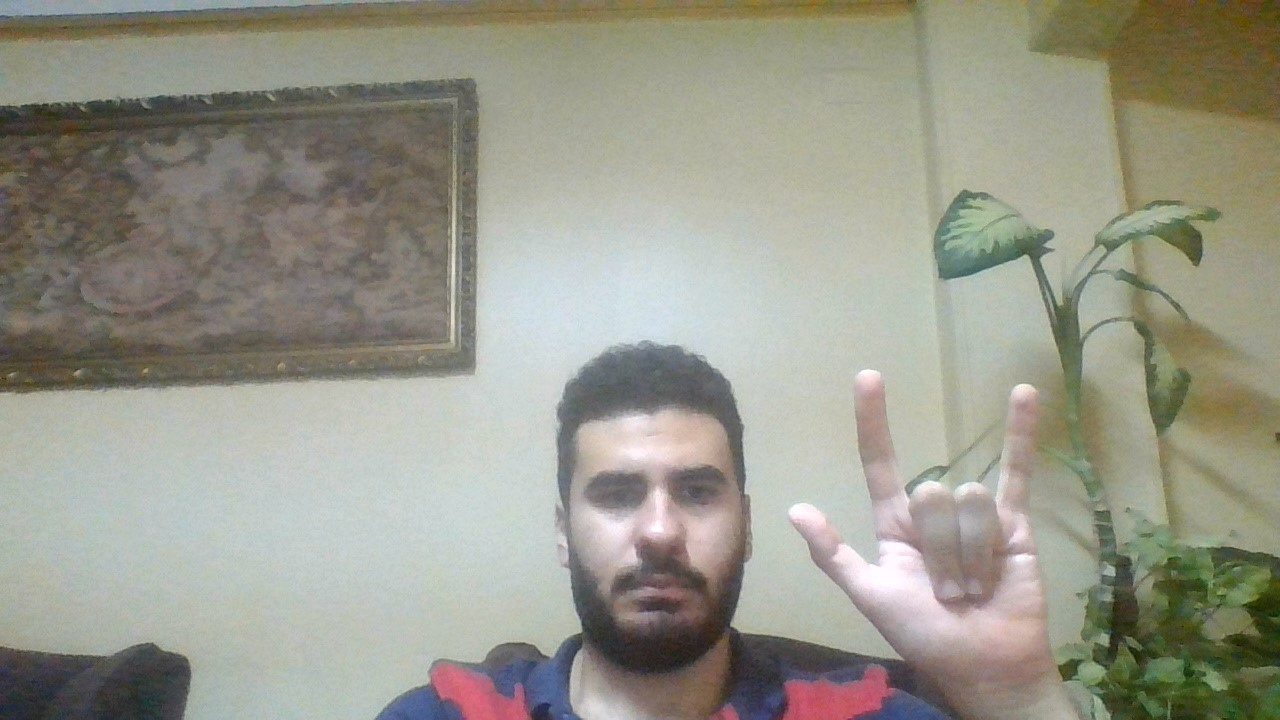love: (782, 352, 1064, 670)
